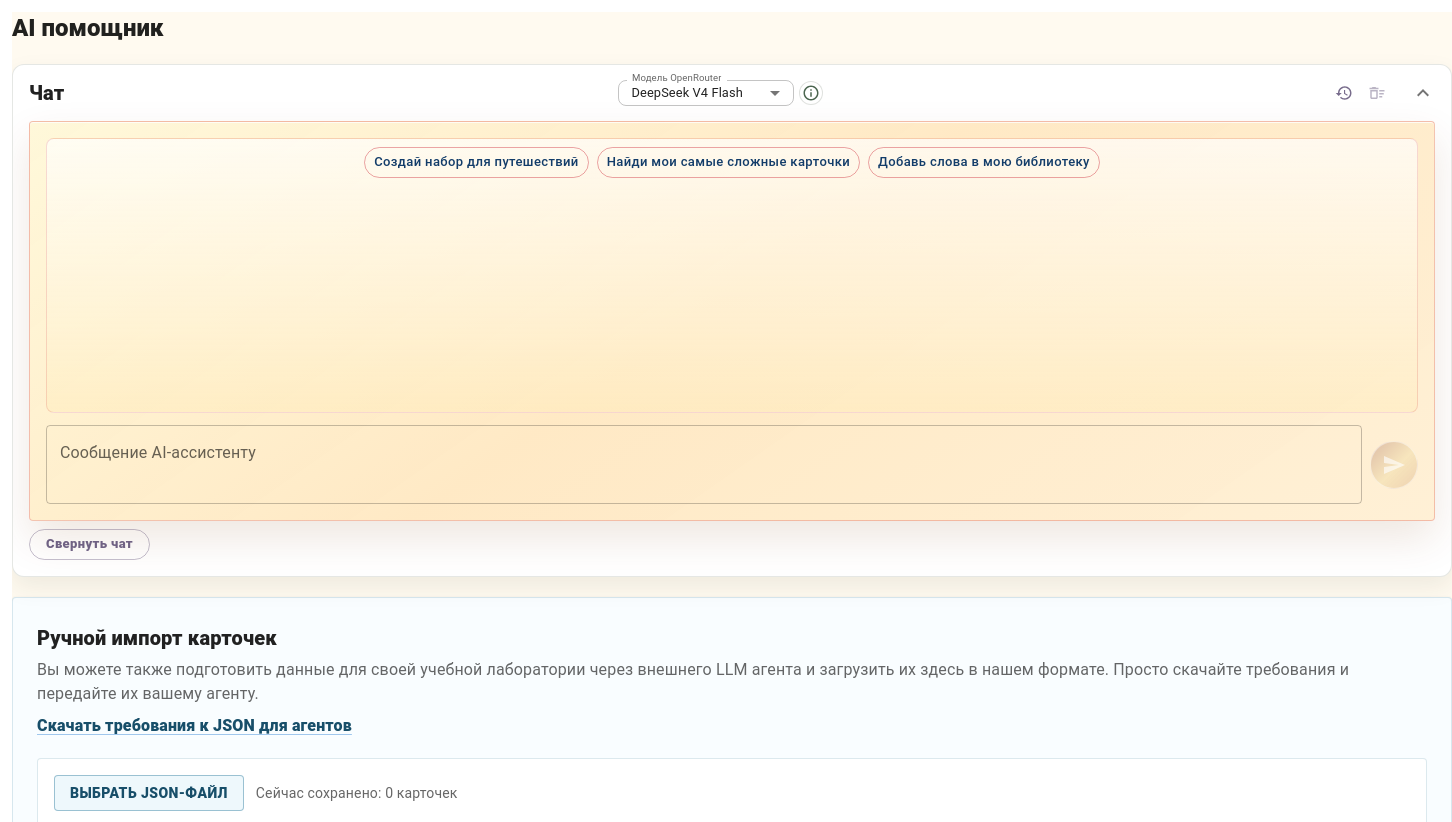
it: AiAssistantView chat › renders assistant markdown headings, lists, emphasis, and tables
Type "Что с кроссвордами?" into the text box labelled "Сообщение AI-ассистенту" at (704,464), box [60,442,1348,488]
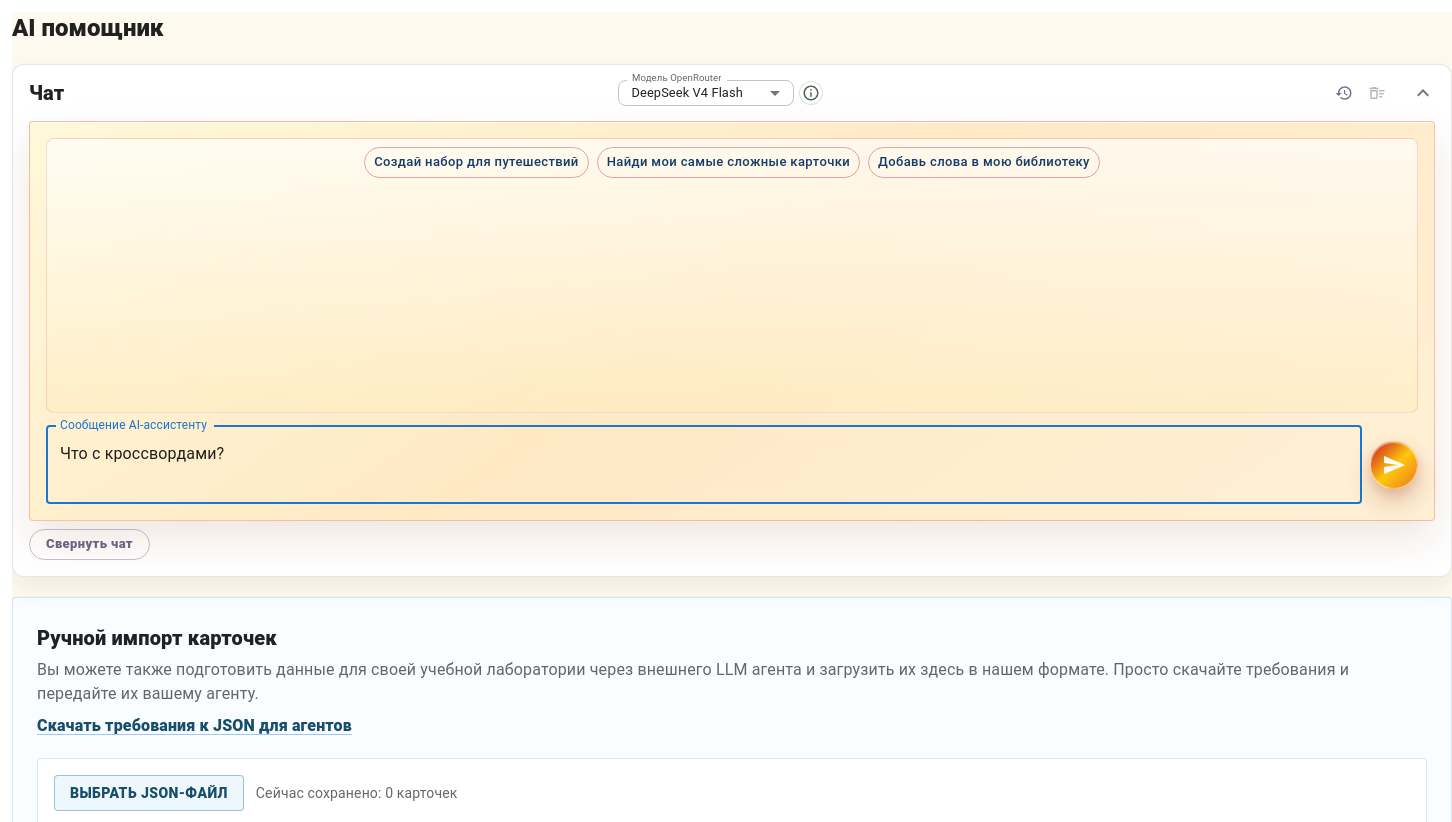
Click the button named "Отправить сообщение" at (1394,464), box [1370,440,1418,488]
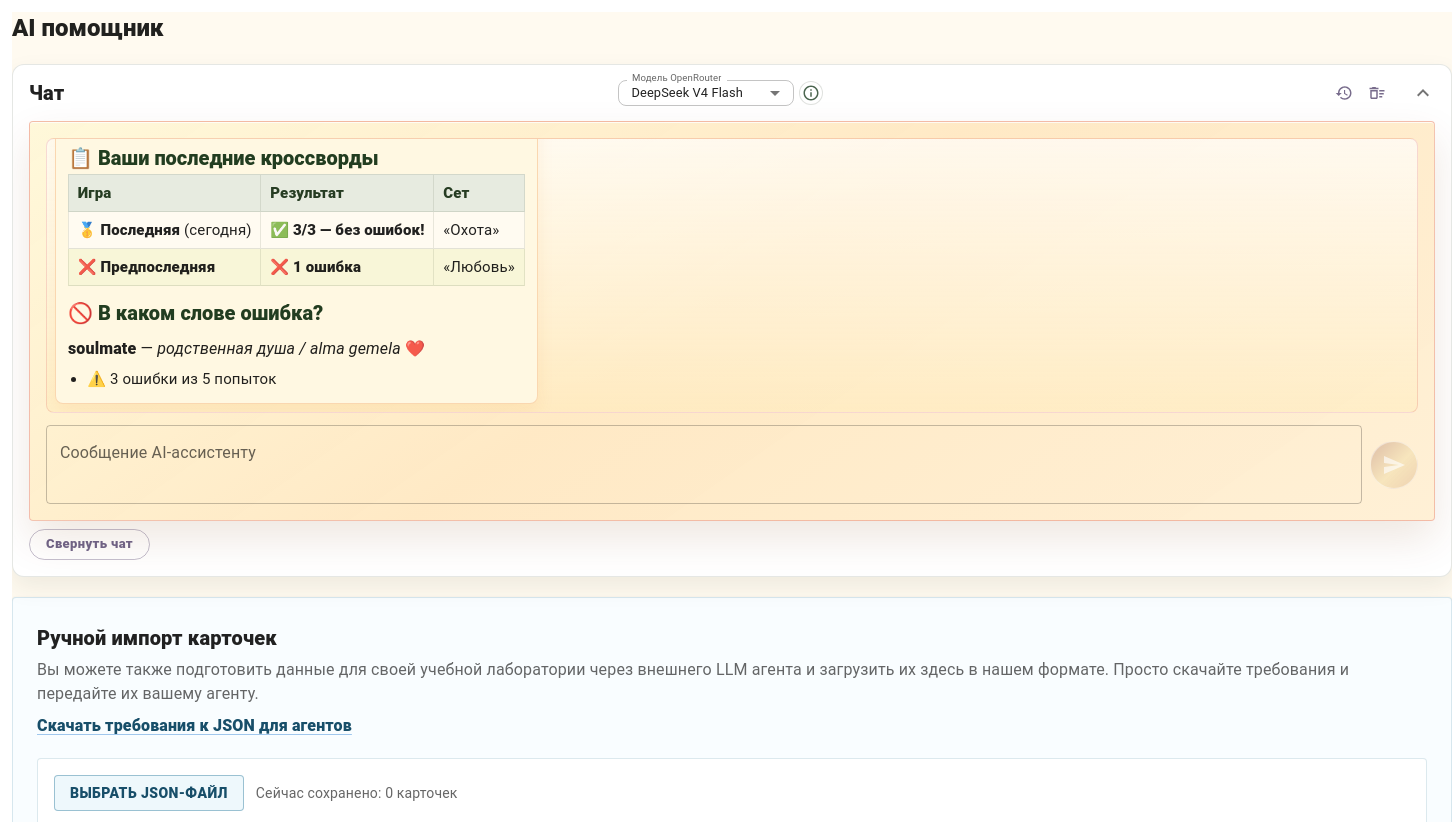
Check: the heading "📋 Ваши последние кроссворды" is shown, box [68,146,379,170]
Check: the heading "🚫 В каком слове ошибка?" is shown, box [68,302,323,326]
Check: the column heading "Игра" is shown, box [68,174,262,212]
